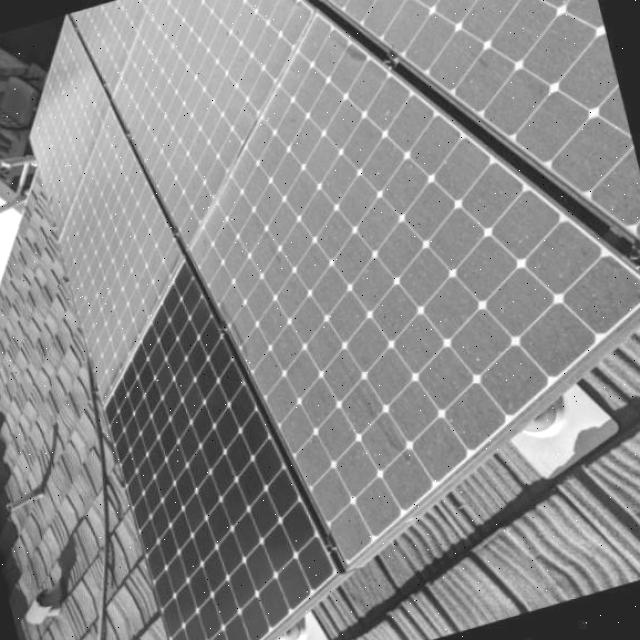Surface Contaminant: (23, 0, 640, 574), (311, 0, 640, 251)
